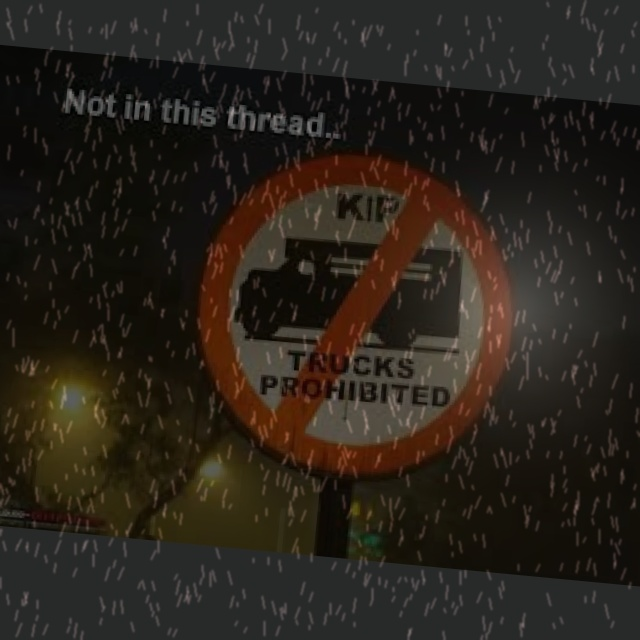Truck_Prohibited: (179, 140, 540, 496)
